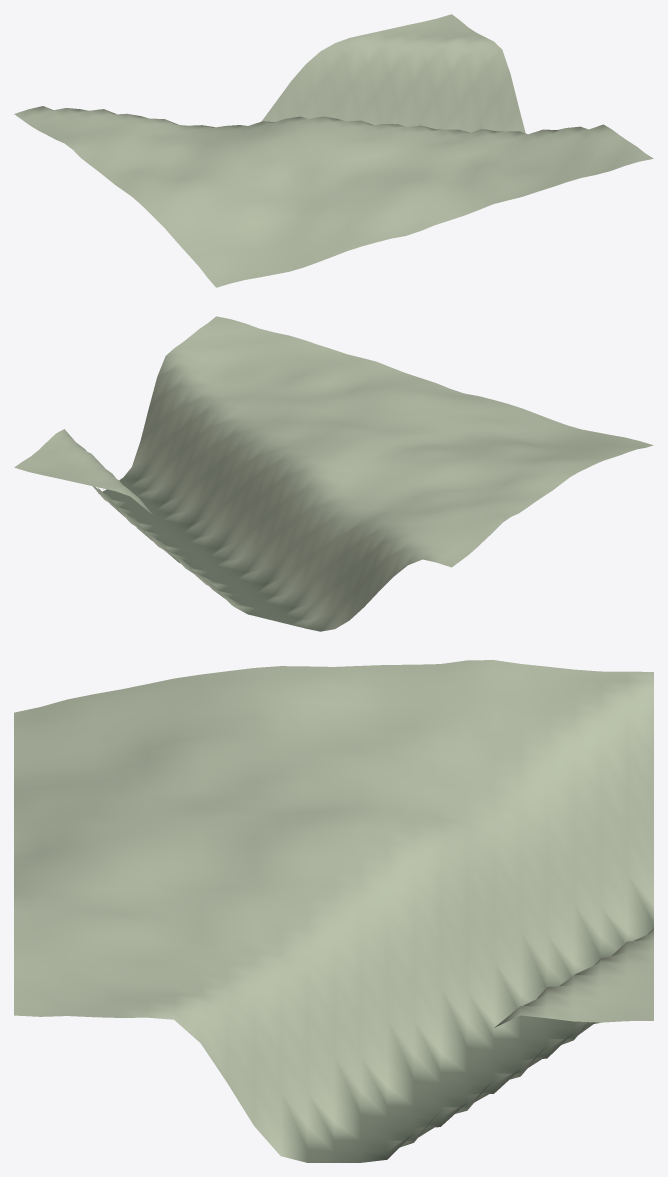
The picture shows the model from 3 angles, top to bottom: view 1: azimuth 30°, elevation 25°; view 2: azimuth 150°, elevation 25°; view 3: azimuth 270°, elevation 25°; orthographic projection. The views are drawn at different scales.
Visible parts, largest first — view 1: world-ground/120-120; view 2: world-ground/120-120; view 3: world-ground/120-120.
Part boxes in pixels (box(x1,y1,x2,y2)): world-ground/120-120: box(14, 14, 653, 287); world-ground/120-120: box(14, 316, 653, 631); world-ground/120-120: box(14, 660, 653, 1162).
Size of the model in its own units: 37.5 by 8.53 by 30.
